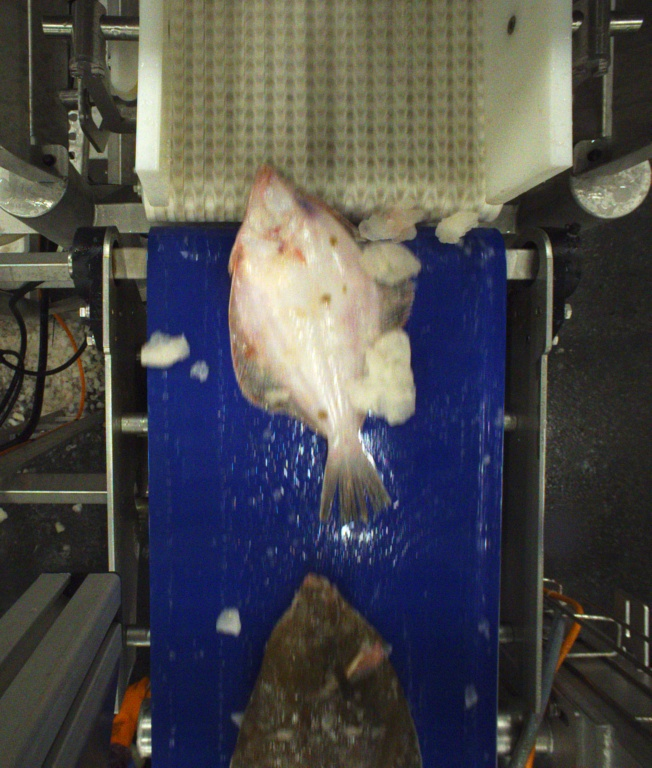PLE: (224, 164, 417, 524)
